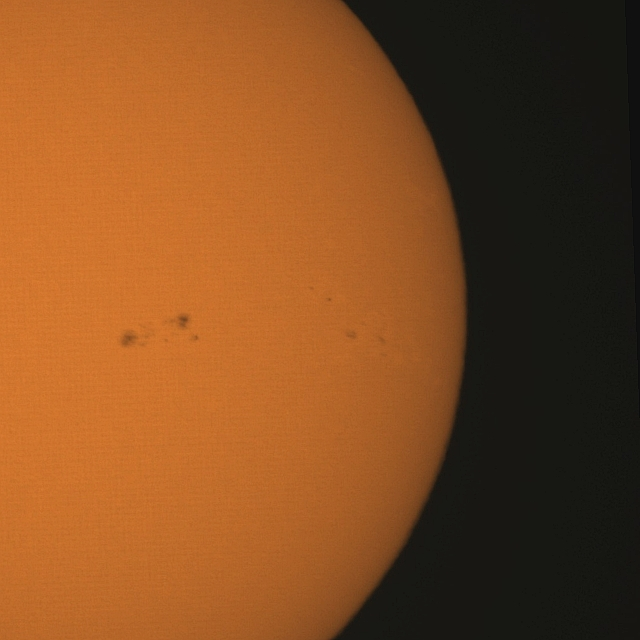sunspot: (175, 313, 192, 333), (326, 296, 333, 303)
